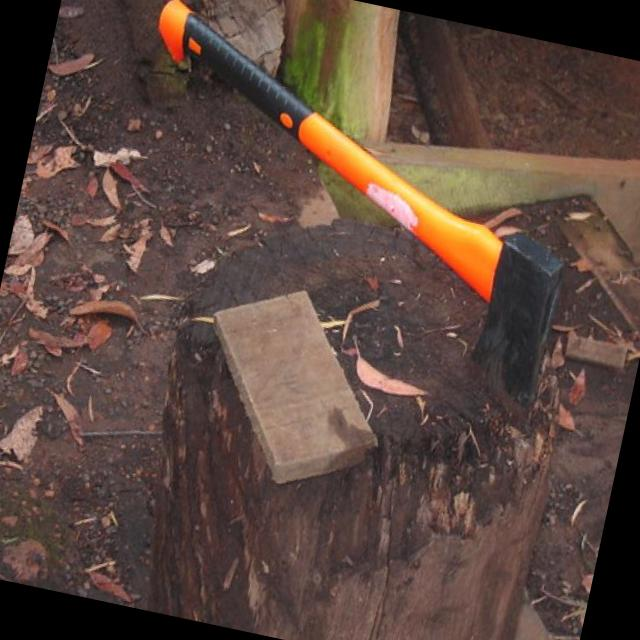Axe: (158, 0, 562, 407)
